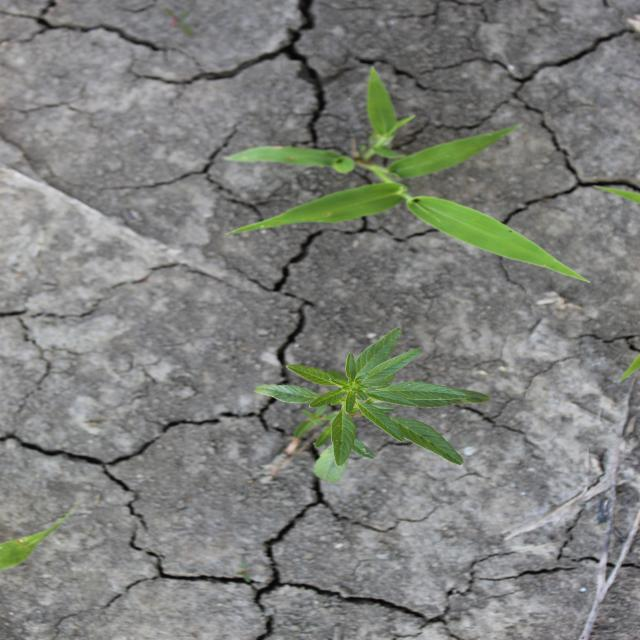Waterhemp: (251, 326, 491, 484)
